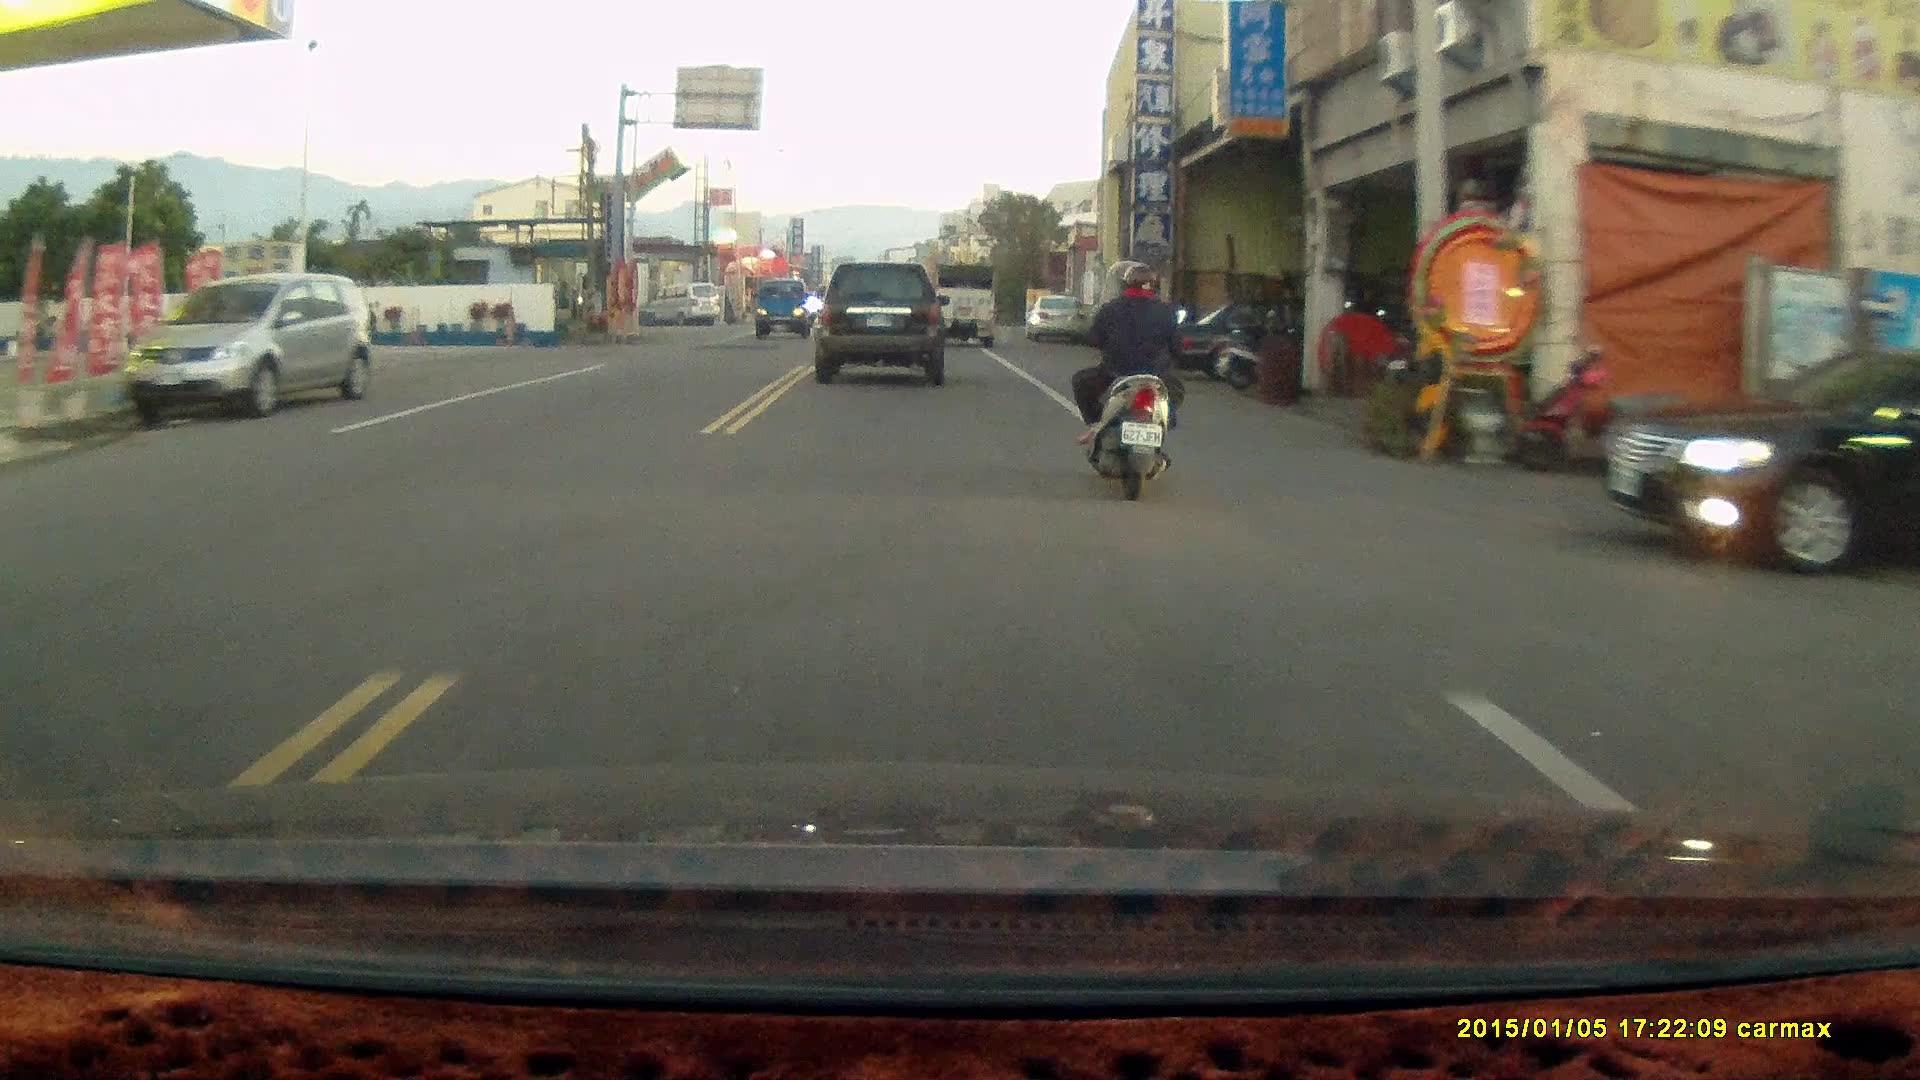rider: (1070, 261, 1183, 502)
vehicle: (1608, 348, 1919, 584), (115, 270, 377, 423), (812, 265, 954, 394), (928, 264, 999, 351), (640, 284, 722, 329), (752, 279, 814, 339), (1025, 297, 1082, 344)
